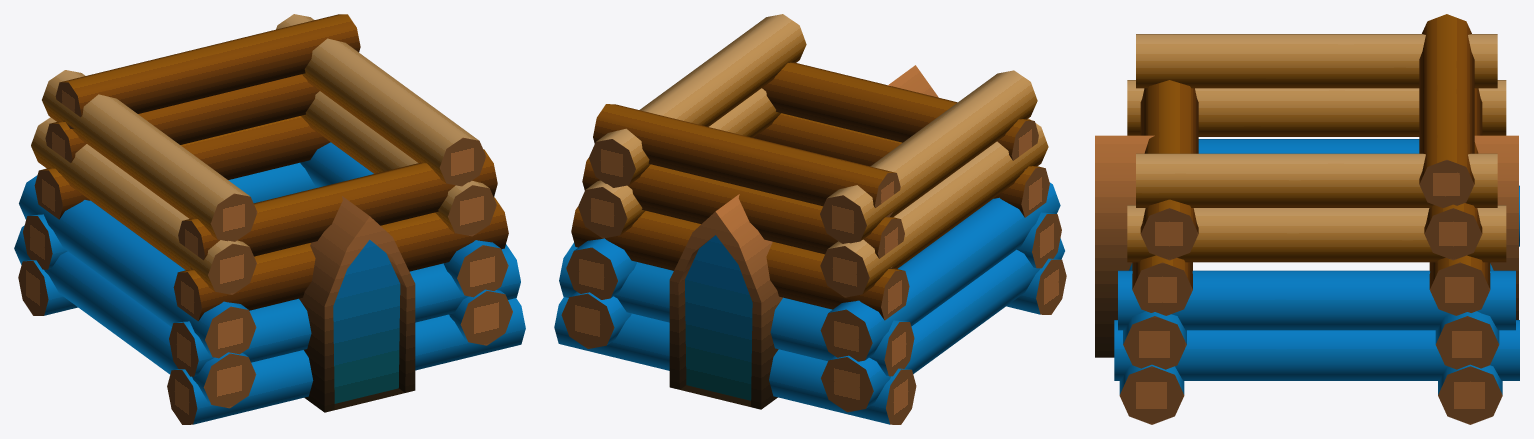
Rendered from TowerLv2Phase1.fbx.
3 renders of one model, left to right at view 1: azimuth 30°, elevation 25°; view 2: azimuth 150°, elevation 25°; view 3: azimuth 270°, elevation 25°, orthographic. The views are drawn at different scales.
Visible parts, largest first — view 1: tower_lvl2; view 2: tower_lvl2; view 3: tower_lvl2.
Part boxes in pixels (x1,y1,x2,y2): tower_lvl2: [14, 14, 525, 424]; tower_lvl2: [554, 14, 1066, 424]; tower_lvl2: [1095, 14, 1519, 424].
Size of the model in its own units: 23.53 by 16.15 by 24.65.
